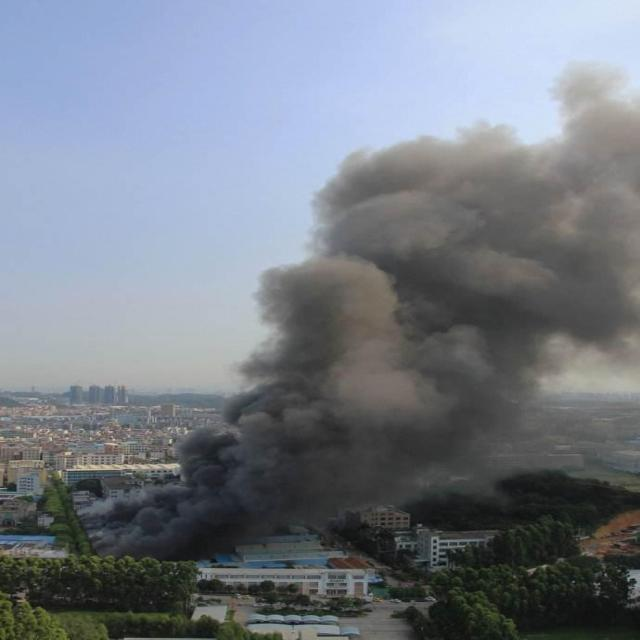Smoke: (76, 61, 640, 562)
